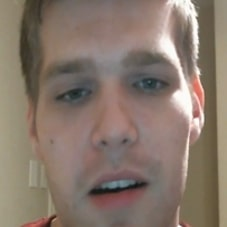awake: (44, 41, 181, 216)
